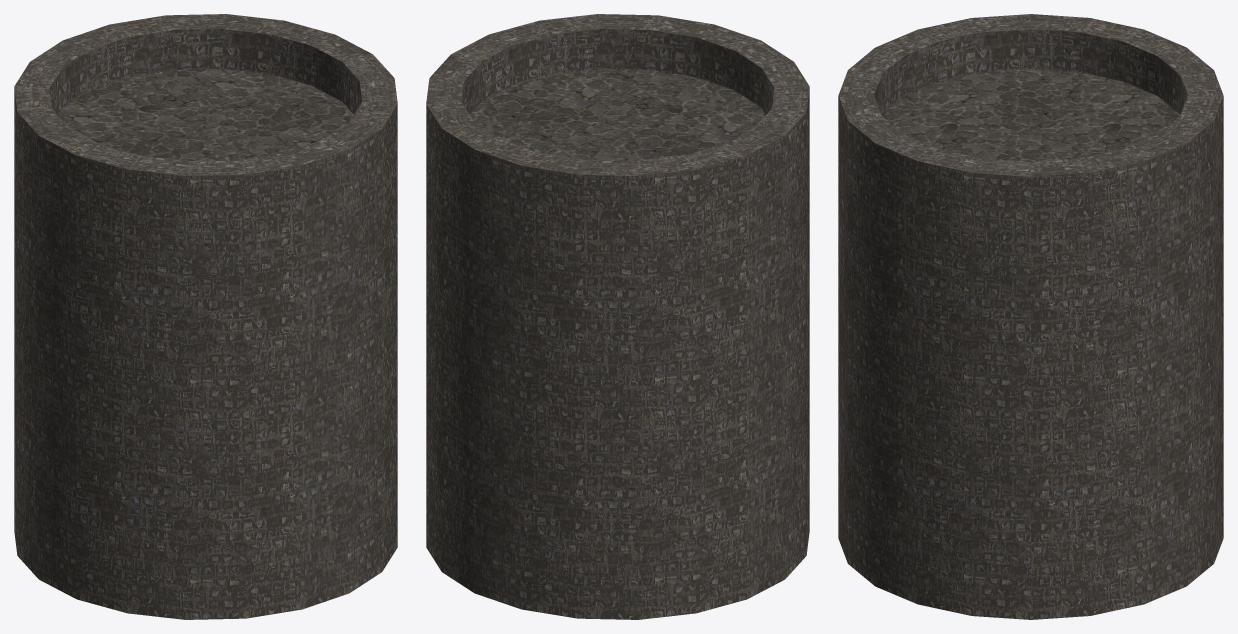
Rendered from CastleRoundTowerBottom.fbx.
3 views of the same model, side by side, from view 1: azimuth 30°, elevation 25°; view 2: azimuth 150°, elevation 25°; view 3: azimuth 270°, elevation 25° (orthographic).
Visible parts, largest first — view 1: Round Tower Bottom; view 2: Round Tower Bottom; view 3: Round Tower Bottom.
Boxes of the visible parts, x1,y1,x2,y2 form: Round Tower Bottom: (14,14,397,619); Round Tower Bottom: (426,14,809,619); Round Tower Bottom: (838,14,1223,619).
Bounding box in the file's own units: 601 × 763 × 601.
